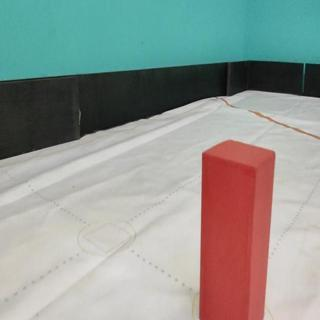redbox: (199, 137, 277, 320)
